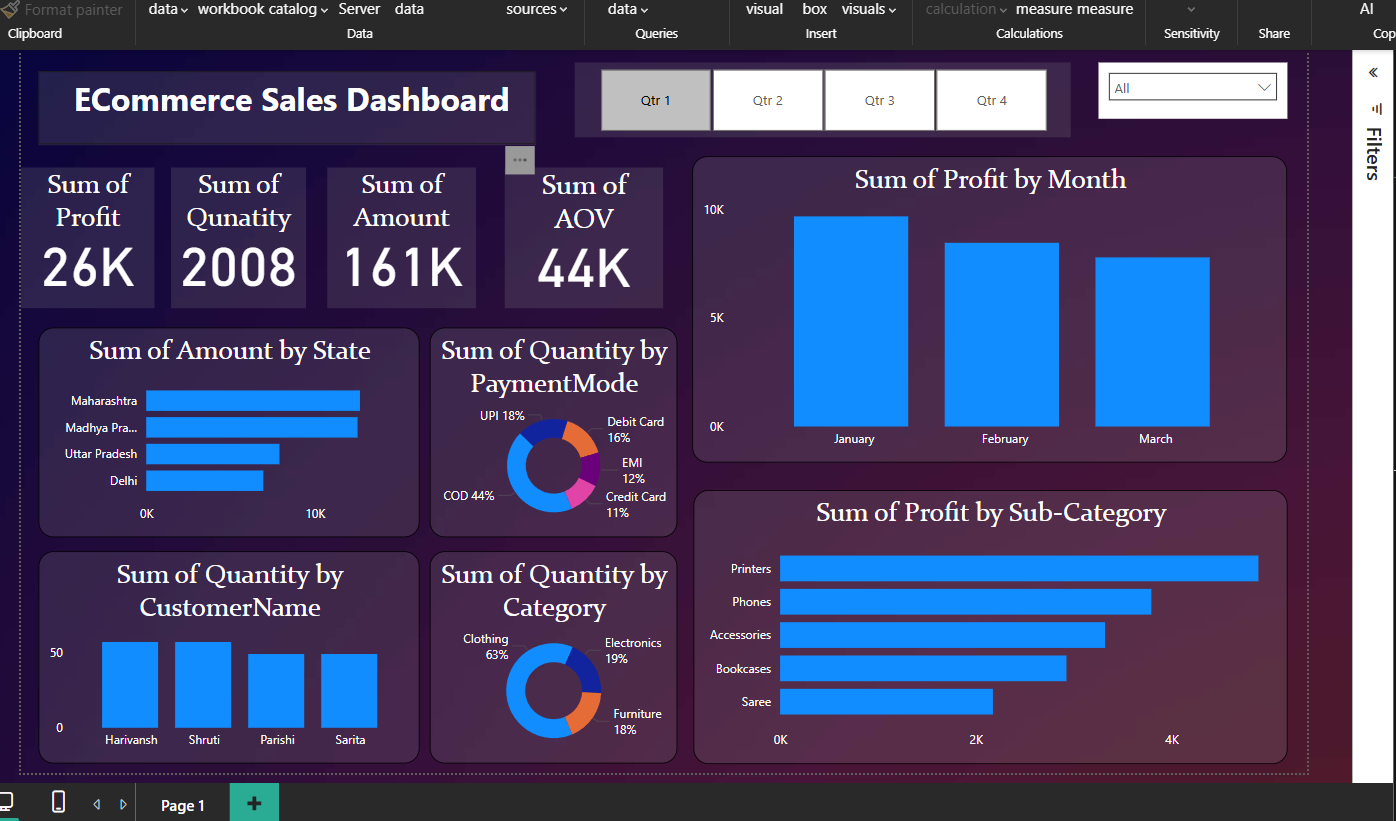

The page's visual inventory and layout, read from the dashboard file:
{"tool":"powerbi","page":{"name":"Page 1","canvas":[1280,720],"ordinal":0},"visuals":[{"type":"textbox","box":[17.4,21.1,495.1,73.4],"z":0},{"type":"card","title":"Sum of Profit","fields":{"Values":["Details.Profit"]},"box":[0,116.6,133.1,140],"z":1000},{"type":"card","title":"Sum of Qunatity","fields":{"Values":["Details.Quantity"]},"box":[149.6,116.6,134.5,140],"z":2000},{"type":"card","title":"Sum of AOV","fields":{"Values":["Details.AOV"]},"box":[481.6,116.6,157.8,140],"z":3000},{"type":"card","title":"Sum of Amount","fields":{"Values":["Details.Amount"]},"box":[304.6,116.6,148.2,140],"z":4000},{"type":"slicer","fields":{"Values":["Orders.Order Date.Variation.Date Hierarchy.Quarter"]},"box":[551.1,12.4,493.9,74.6],"z":5000},{"type":"slicer","fields":{"Values":["Orders.State"]},"box":[1071.7,12.3,188,56.3],"z":6000},{"type":"columnChart","fields":{"Y":["Details.Profit"],"Category":["Orders.Order Date.Variation.Date Hierarchy.Month"]},"box":[668,105.7,592.1,304.8],"z":7000},{"type":"barChart","fields":{"Category":["Details.Sub-Category"],"Y":["Details.Profit"]},"box":[669.3,437.9,590.9,272.4],"z":8000},{"type":"donutChart","fields":{"Category":["Details.Category"],"Y":["Details.Quantity"]},"box":[406.8,498.8,246.3,211.5],"z":9000},{"type":"donutChart","fields":{"Category":["Details.PaymentMode","Details.Category"],"Y":["Details.Quantity"]},"box":[406.8,276.2,246.3,209],"z":10000},{"type":"barChart","fields":{"Y":["Details.Amount"],"Category":["Orders.State"]},"box":[17.4,276.2,379.4,209],"z":11000},{"type":"columnChart","fields":{"Category":["Orders.CustomerName"],"Y":["Details.Quantity"]},"box":[17.4,498.8,379.4,211.5],"z":12000}]}

Visuals, with their boxes on the page's 1280x720 design canvas (x1, y1, x2, y2). These are canvas units, not pixel positions in the 1396x821 screenshot, which may show the page scaled, cropped or inside an application window:
textbox: (17, 21, 512, 94)
"Sum of Profit" card: (0, 117, 133, 257)
"Sum of Qunatity" card: (150, 117, 284, 257)
"Sum of AOV" card: (482, 117, 639, 257)
"Sum of Amount" card: (305, 117, 453, 257)
slicer - Orders.Order Date.Variation.Date Hierarchy.Quarter: (551, 12, 1045, 87)
slicer - Orders.State: (1072, 12, 1260, 69)
columnChart - Details.Profit x Orders.Order Date.Variation.Date Hierarchy.Month: (668, 106, 1260, 410)
barChart - Details.Sub-Category x Details.Profit: (669, 438, 1260, 710)
donutChart - Details.Category x Details.Quantity: (407, 499, 653, 710)
donutChart - Details.PaymentMode x Details.Category: (407, 276, 653, 485)
barChart - Details.Amount x Orders.State: (17, 276, 397, 485)
columnChart - Orders.CustomerName x Details.Quantity: (17, 499, 397, 710)
